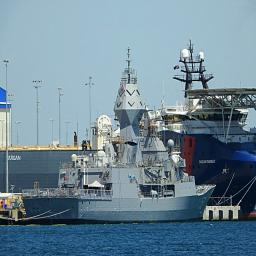Fragata: (22, 45, 218, 226)
